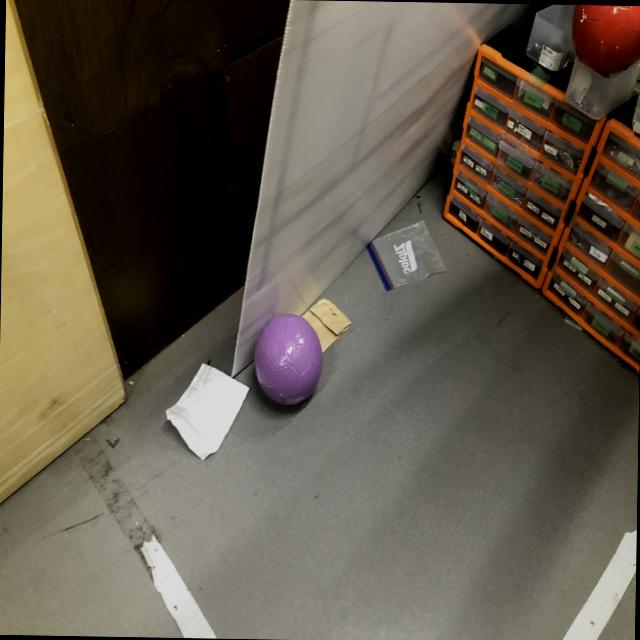purple_ball: (253, 317, 325, 409)
